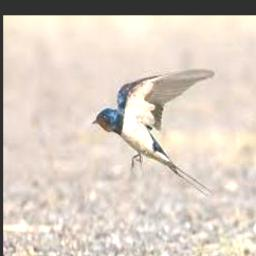Swallow: (92, 68, 215, 196)
